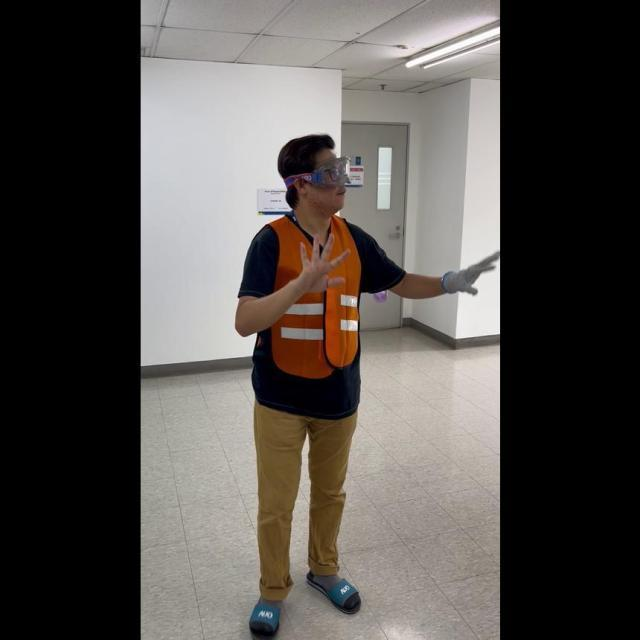bare_hand: (287, 230, 350, 289)
gloved_hand: (438, 246, 496, 296)
